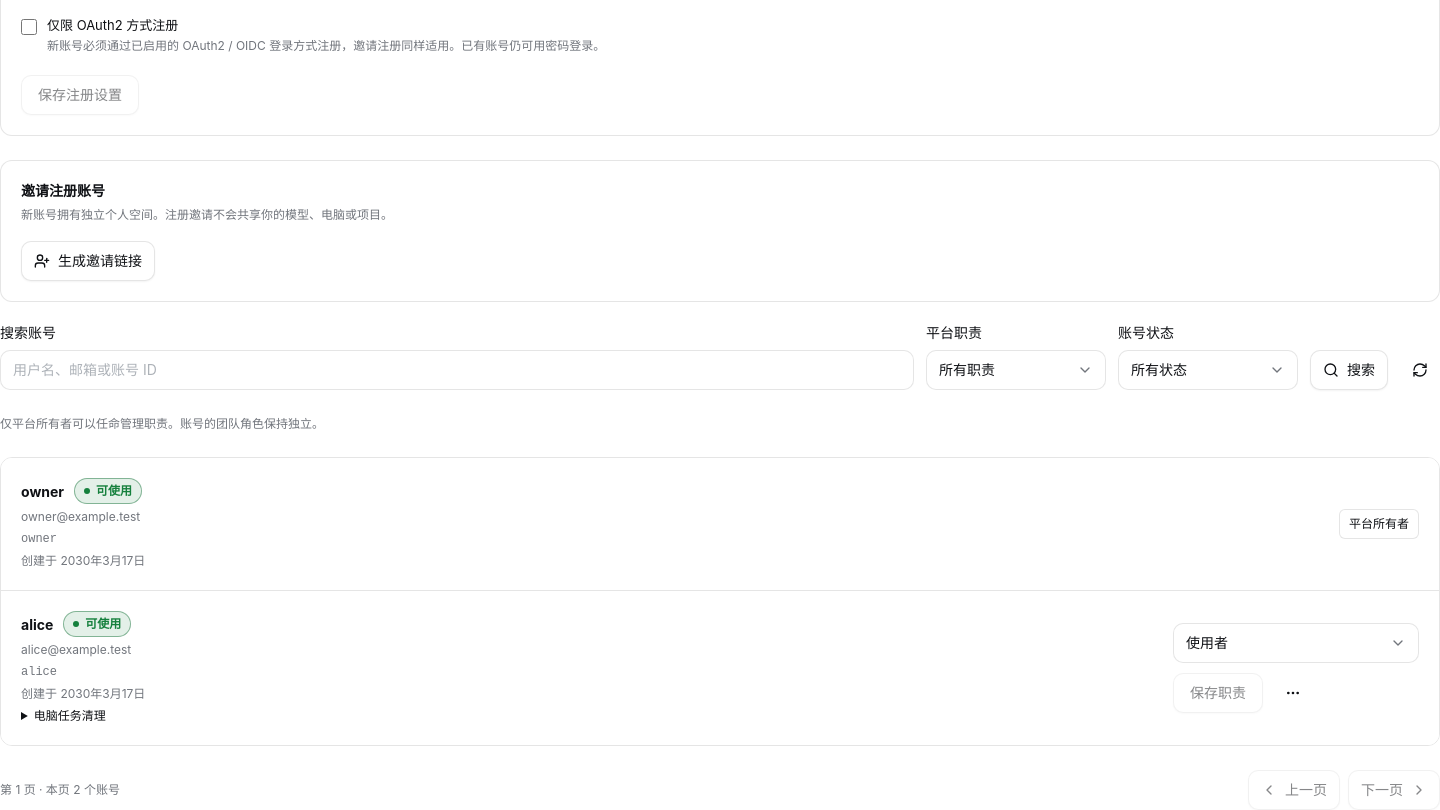
Test: refreshes a conflicting status change without silently repeating it
Step 1. Press the mouse on the button named "账号“alice”的操作" → (1293, 693), box [1273, 673, 1313, 713]
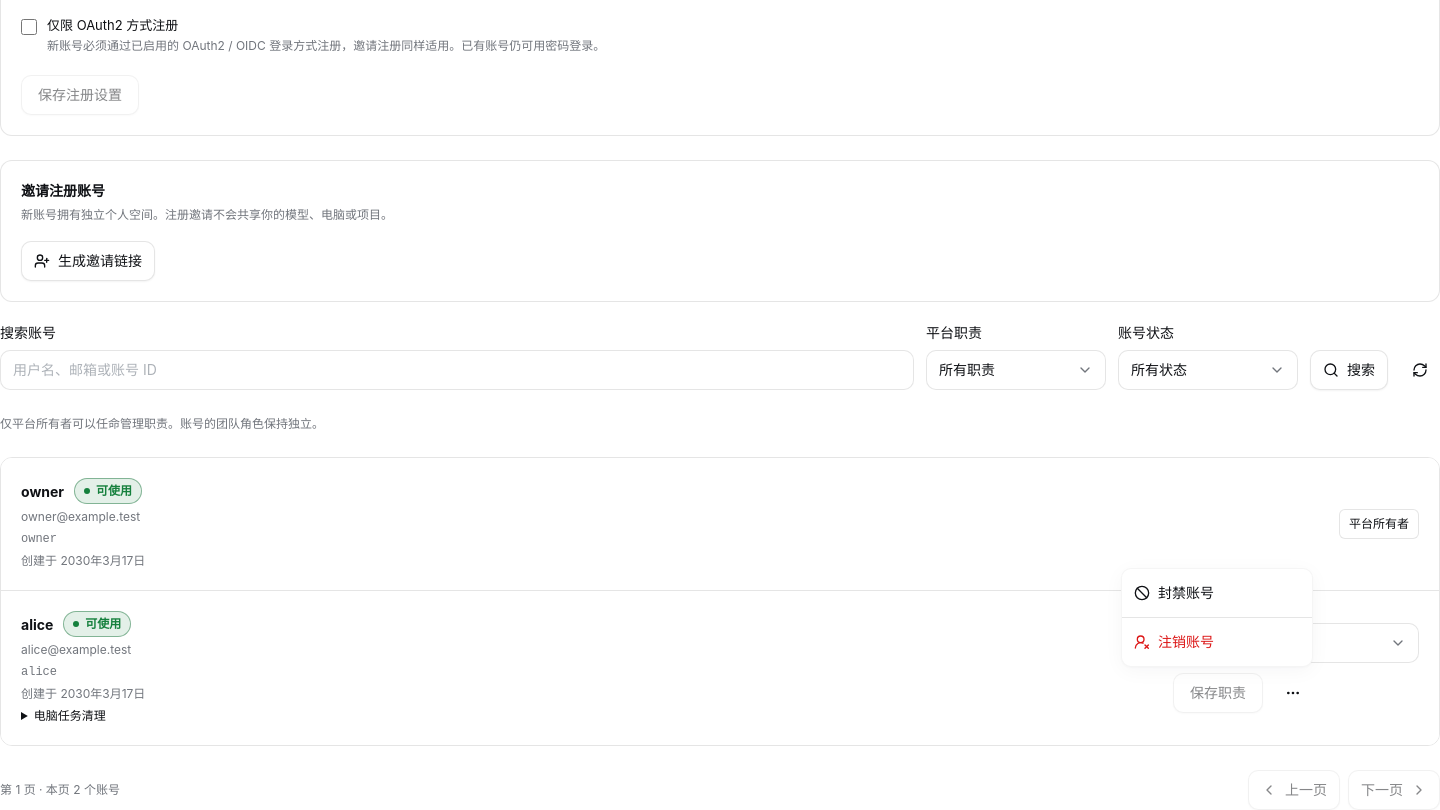
Step 2. Click the menu item "封禁账号" → (1174, 592), box [1134, 584, 1214, 601]
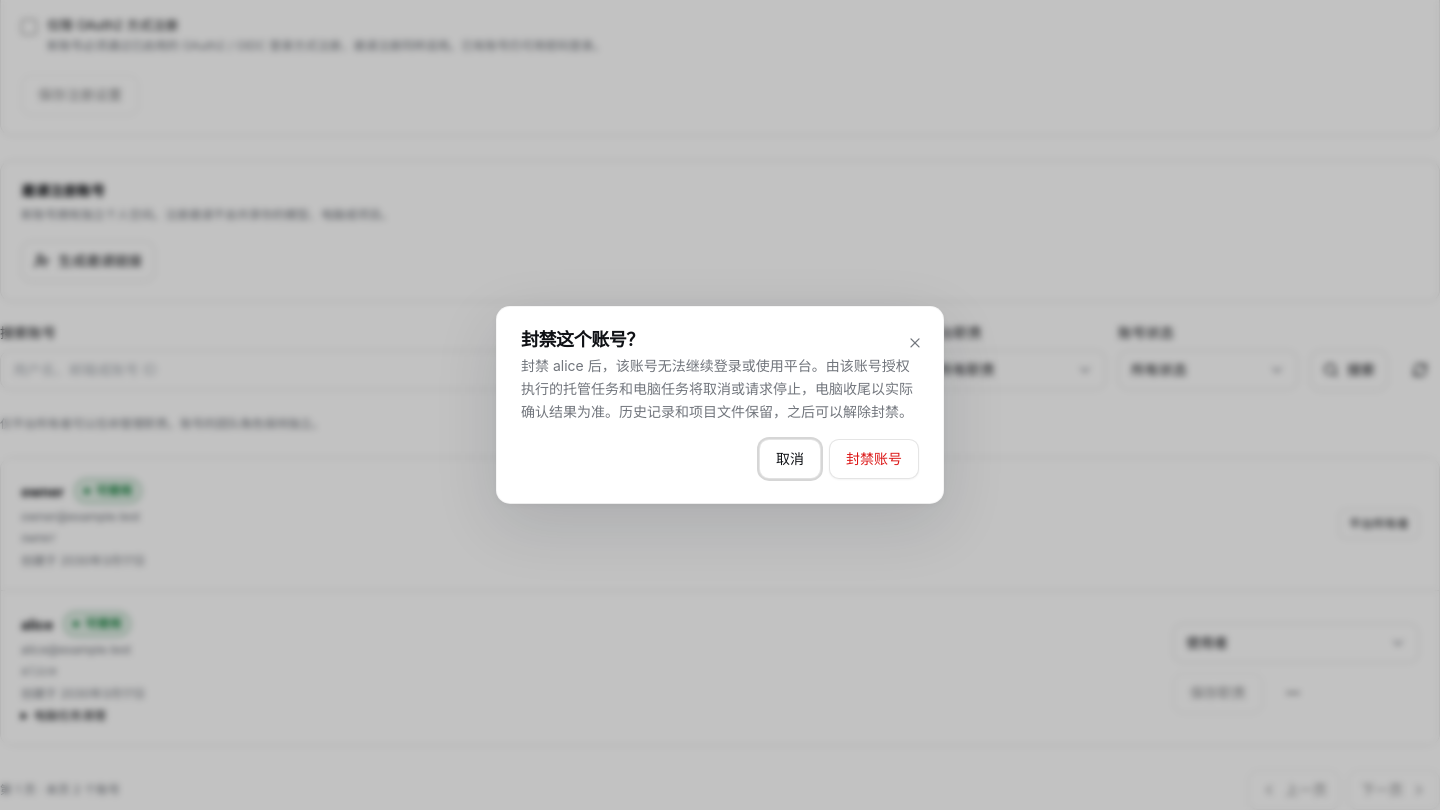
Step 3. Click the button "封禁账号" → (874, 459), box [829, 439, 919, 479]
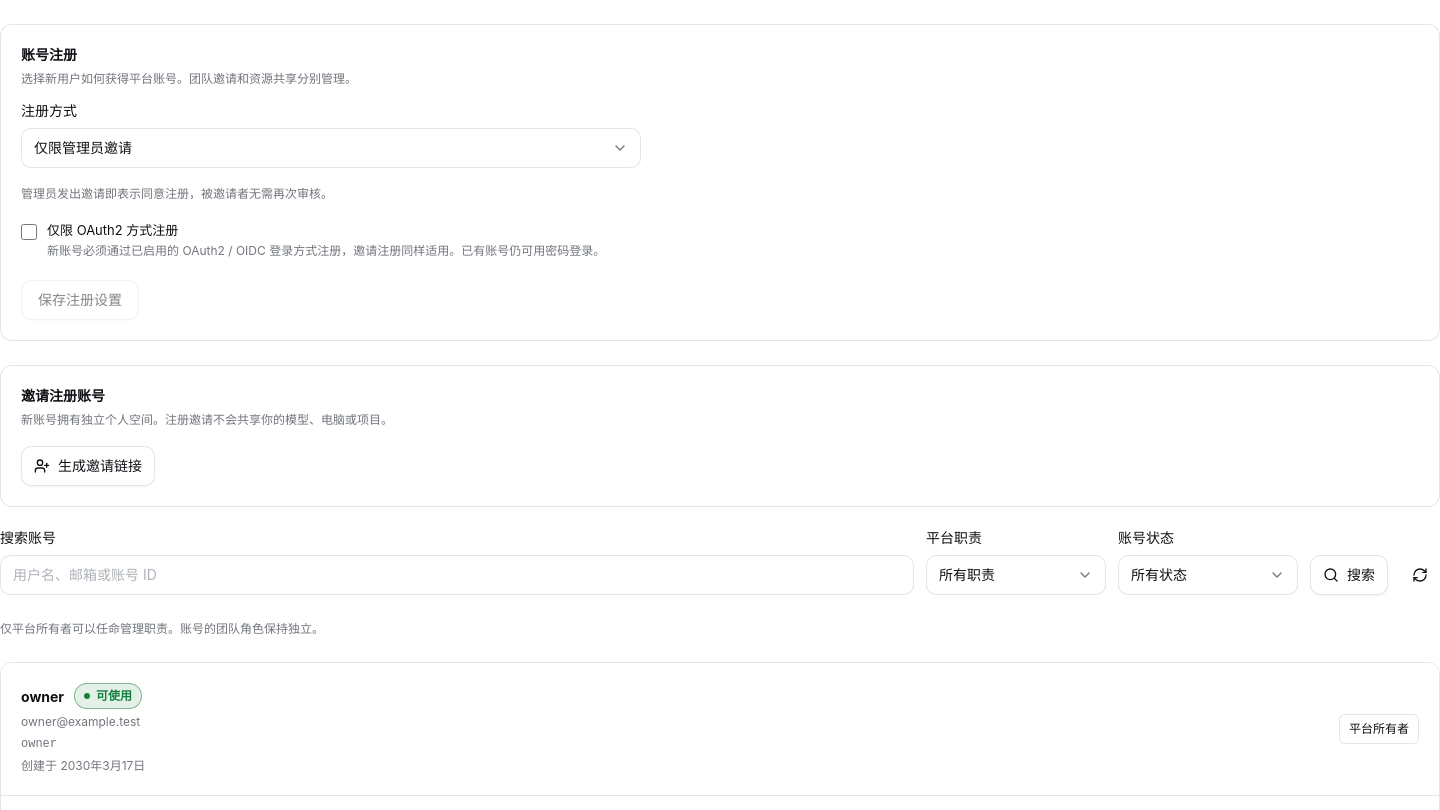
Result: the dialog is gone
